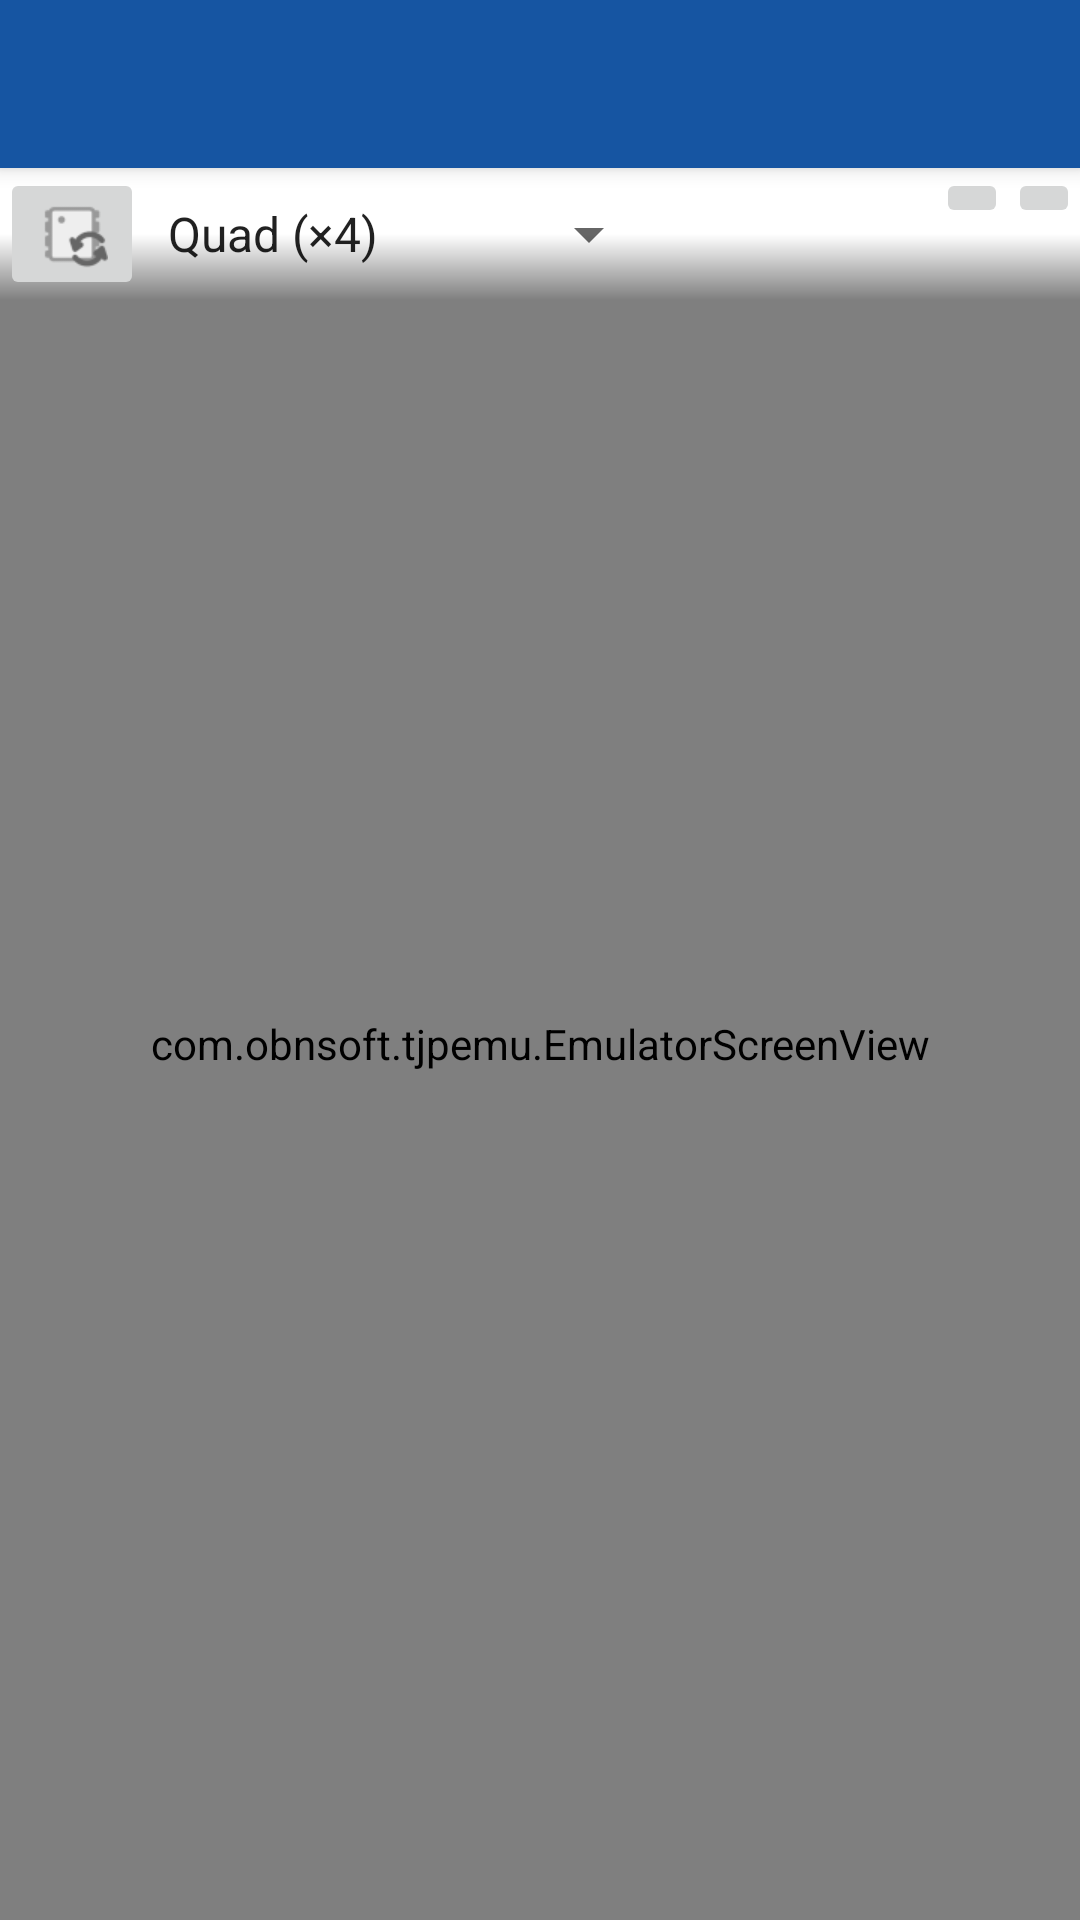

Screen size 1080px×1920px. Icon name, then its center in pixels as [x,y]:
Reset: [72,234]
